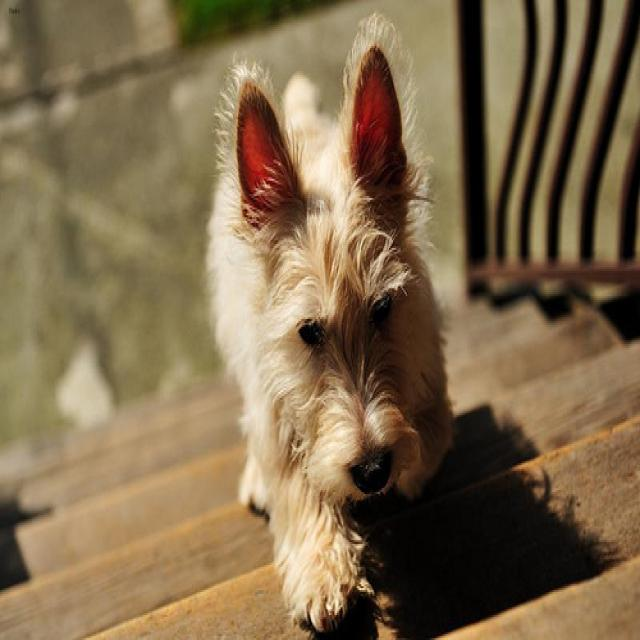dog-scottish_terrier: (201, 4, 461, 636)
